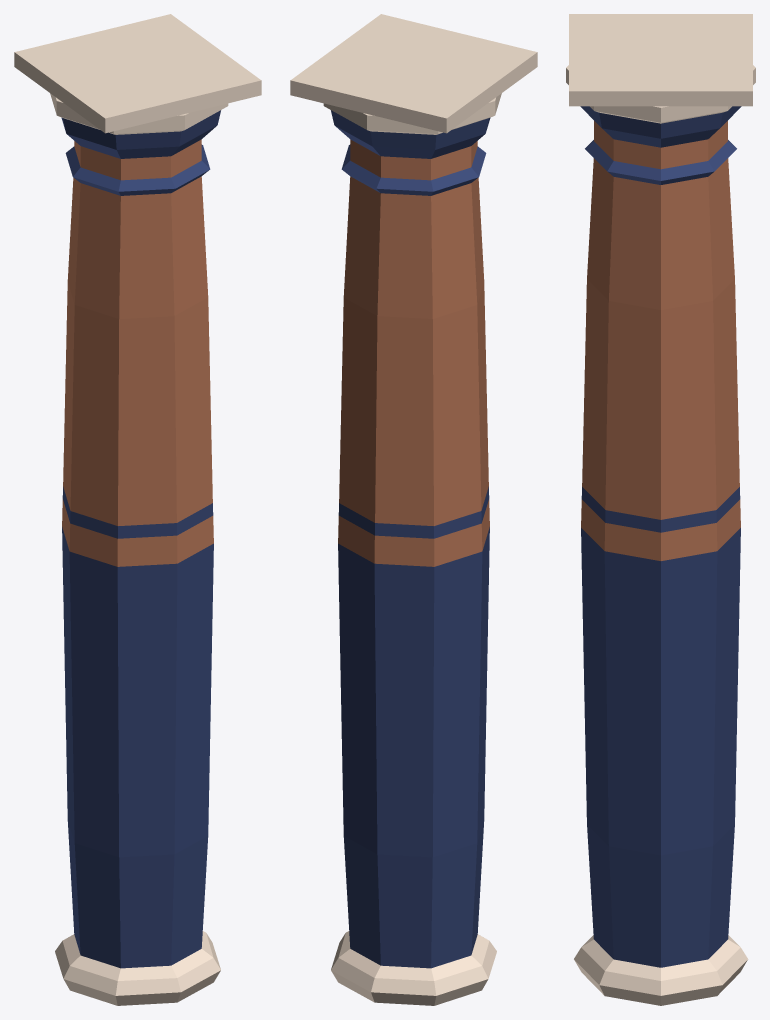
The model's file is empire-pillar-tuscan-medium-color-empire.glb.
3 renders of one model, left to right at view 1: azimuth 30°, elevation 25°; view 2: azimuth 150°, elevation 25°; view 3: azimuth 270°, elevation 25°, orthographic.
Parts seen in each view (by area): view 1: SM_Pillar_Tuscan_Medium_Color_Empire; view 2: SM_Pillar_Tuscan_Medium_Color_Empire; view 3: SM_Pillar_Tuscan_Medium_Color_Empire.
Part boxes in pixels (x1,y1,x2,y2): SM_Pillar_Tuscan_Medium_Color_Empire: (14,14,261,1005); SM_Pillar_Tuscan_Medium_Color_Empire: (290,14,537,1005); SM_Pillar_Tuscan_Medium_Color_Empire: (566,14,755,1005).
Size of the model in its own units: 1.12 by 6 by 1.12.
